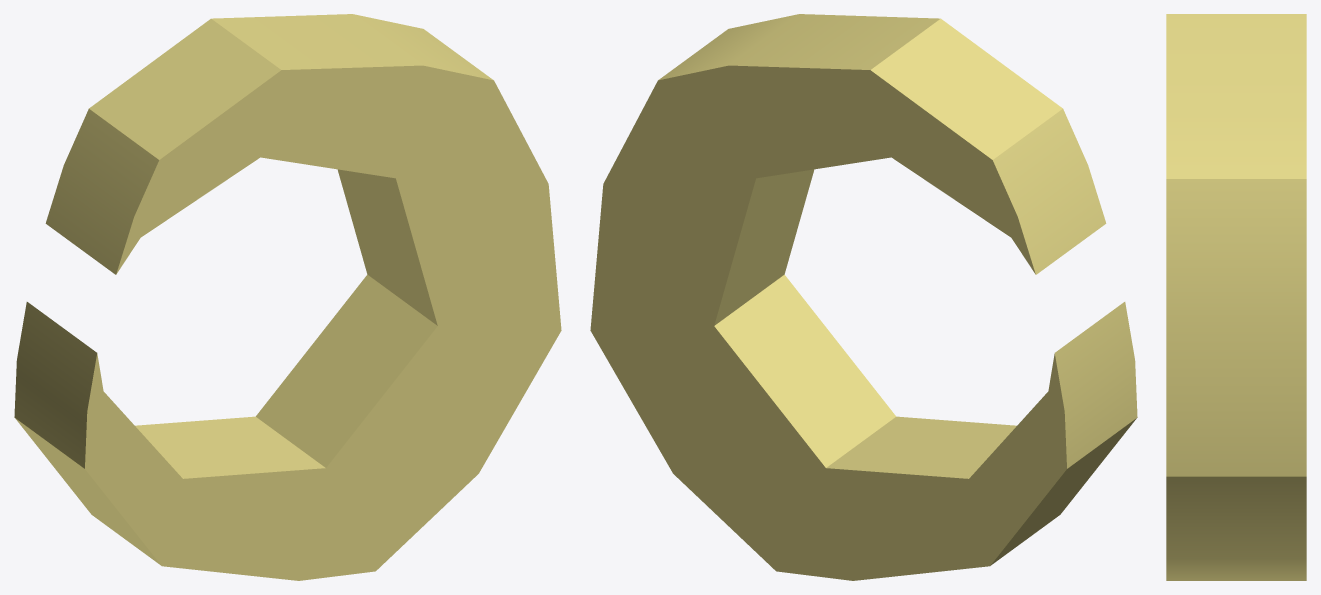
The model's file is da_moon.fbx.
3 renders of one model, left to right at view 1: azimuth 30°, elevation 25°; view 2: azimuth 150°, elevation 25°; view 3: azimuth 270°, elevation 25°, orthographic.
Visible parts, largest first — view 1: pPlane3; view 2: pPlane3; view 3: pPlane3.
Boxes of the visible parts, x1=… form: pPlane3: x1=14, y1=14, x2=561, y2=580; pPlane3: x1=590, y1=14, x2=1137, y2=580; pPlane3: x1=1166, y1=14, x2=1306, y2=580.
Size of the model in its own units: 21.55 by 22.65 by 5.51.
